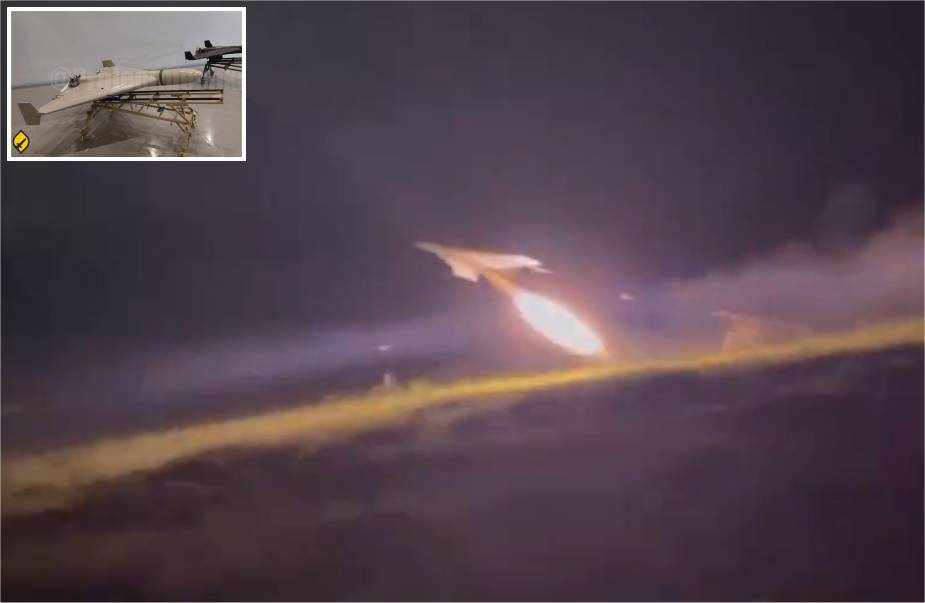shahed: (18, 56, 203, 124), (416, 241, 543, 283)
